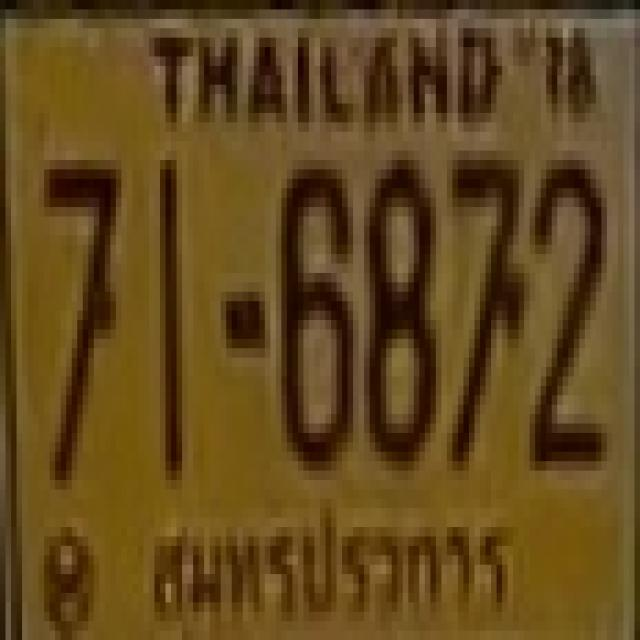1: (158, 156, 180, 476)
2: (530, 151, 601, 461)
6: (279, 160, 350, 461)
7: (38, 151, 116, 480), (447, 151, 519, 461)
8: (364, 151, 430, 461)
SPK: (138, 488, 516, 640)
